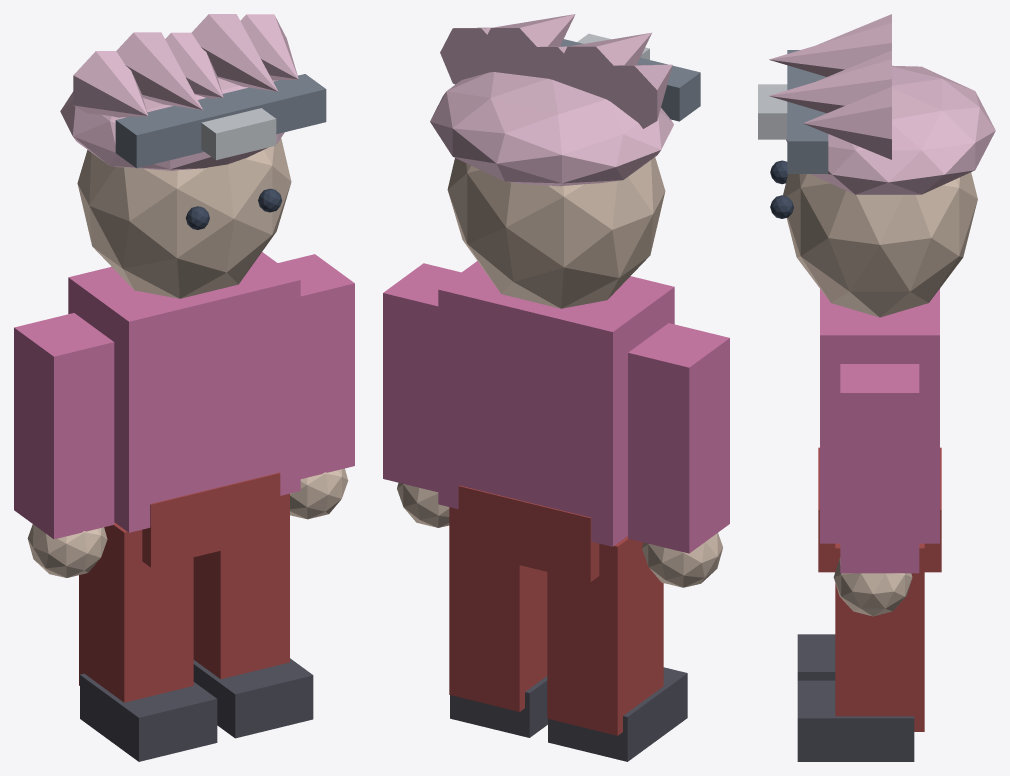
The model's file is sakura.glb.
3 views of the same model, side by side, from view 1: azimuth 30°, elevation 25°; view 2: azimuth 150°, elevation 25°; view 3: azimuth 270°, elevation 25° (orthographic). The views are drawn at different scales.
Visible parts, largest first — view 1: part_000, part_010, part_002, part_004, part_008, part_006, part_001, part_019, part_005, part_009, part_013, part_015 (+7 smaller); view 2: part_000, part_010, part_002, part_013, part_004, part_008, part_006, part_001, part_005, part_015, part_017, part_014 (+6 smaller); view 3: part_010, part_006, part_000, part_013, part_008, part_009, part_018, part_015, part_017, part_019, part_007, part_005 (+3 smaller).
Part boxes in pixels (x1,y1,x2,y2): part_000: (68, 252, 300, 532); part_010: (77, 138, 291, 298); part_002: (14, 313, 114, 539); part_004: (79, 522, 193, 702); part_008: (193, 493, 289, 679); part_006: (278, 254, 354, 478); part_001: (142, 472, 280, 567); part_019: (115, 74, 326, 168); part_005: (80, 673, 217, 761); part_009: (193, 658, 313, 738); part_013: (60, 78, 284, 170); part_015: (116, 32, 202, 109); part_000: (438, 261, 674, 546); part_010: (447, 157, 665, 308); part_002: (628, 323, 729, 553); part_013: (430, 72, 673, 186); part_004: (547, 536, 663, 735); part_008: (449, 507, 547, 711); part_006: (383, 263, 461, 492); part_001: (458, 485, 599, 582); part_005: (548, 667, 687, 761); part_015: (555, 32, 651, 101); part_017: (478, 14, 575, 77); part_014: (593, 64, 672, 128); part_010: (783, 172, 977, 317); part_006: (840, 364, 919, 573); part_000: (820, 289, 939, 543); part_013: (786, 65, 995, 194); part_008: (835, 543, 924, 731); part_009: (797, 680, 914, 761); part_018: (803, 86, 891, 159); part_015: (769, 23, 891, 76); part_017: (769, 59, 891, 113); part_019: (787, 50, 828, 173); part_007: (833, 558, 912, 616); part_005: (797, 634, 835, 680).
Bounding box in the file's own units: 1.03 × 2.17 × 0.6928.
